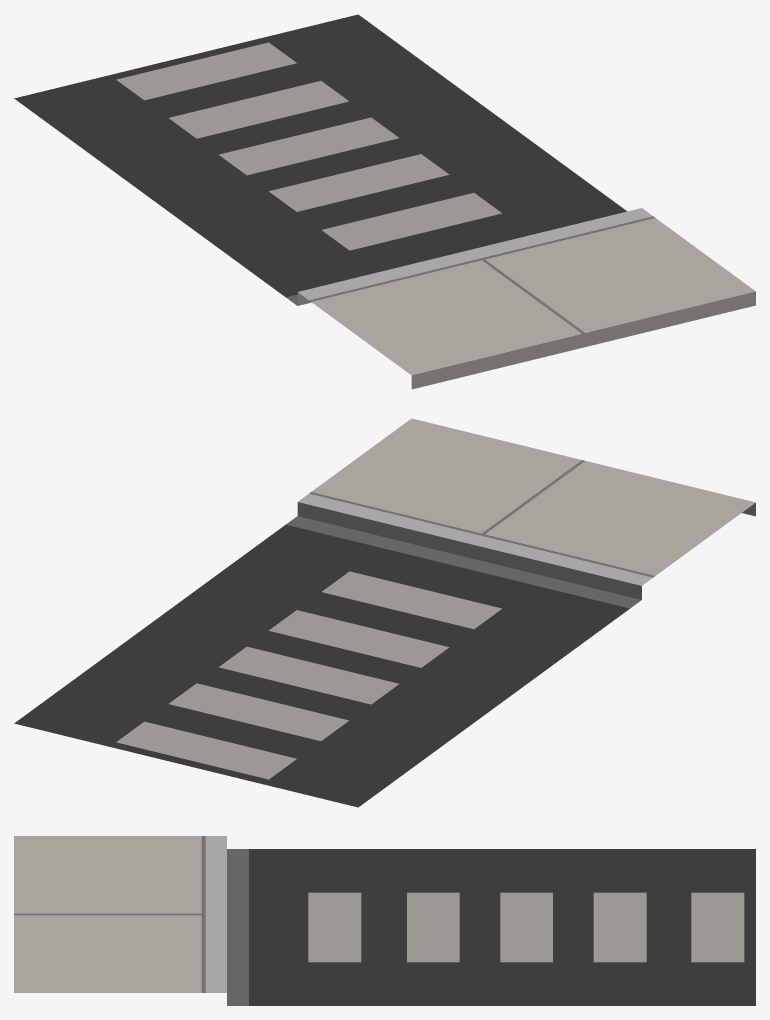
The model's file is SA_Env_Road_Crossing_01.glb.
3 renders of one model, top to bottom at view 1: azimuth 30°, elevation 25°; view 2: azimuth 150°, elevation 25°; view 3: azimuth 270°, elevation 25°, orthographic. The views are drawn at different scales.
Parts seen in each view (by area): view 1: SA_Env_Road_Crossing_01; view 2: SA_Env_Road_Crossing_01; view 3: SA_Env_Road_Crossing_01.
Part boxes in pixels (x1,y1,x2,y2): SA_Env_Road_Crossing_01: (14,14,755,389); SA_Env_Road_Crossing_01: (14,418,755,807); SA_Env_Road_Crossing_01: (14,836,755,1005).
Bounding box in the file's own units: 2.1 × 0.0818 × 4.2.
1 material, 1 textured.
